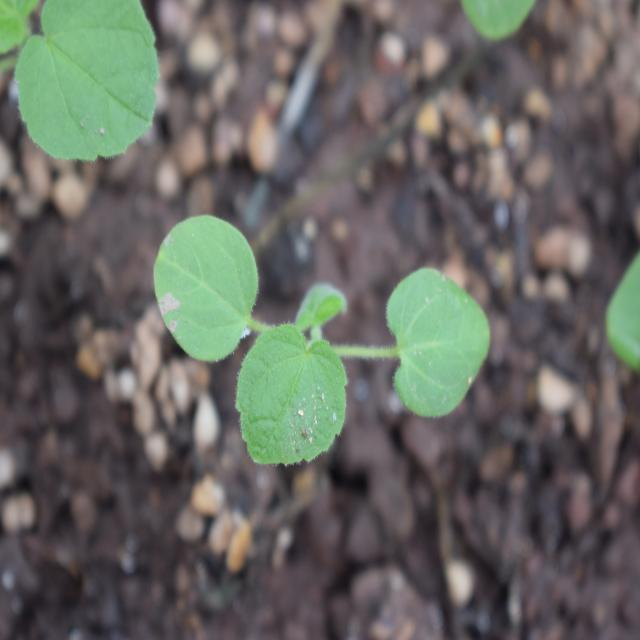abutilon theophrasti: (154, 202, 487, 503)
